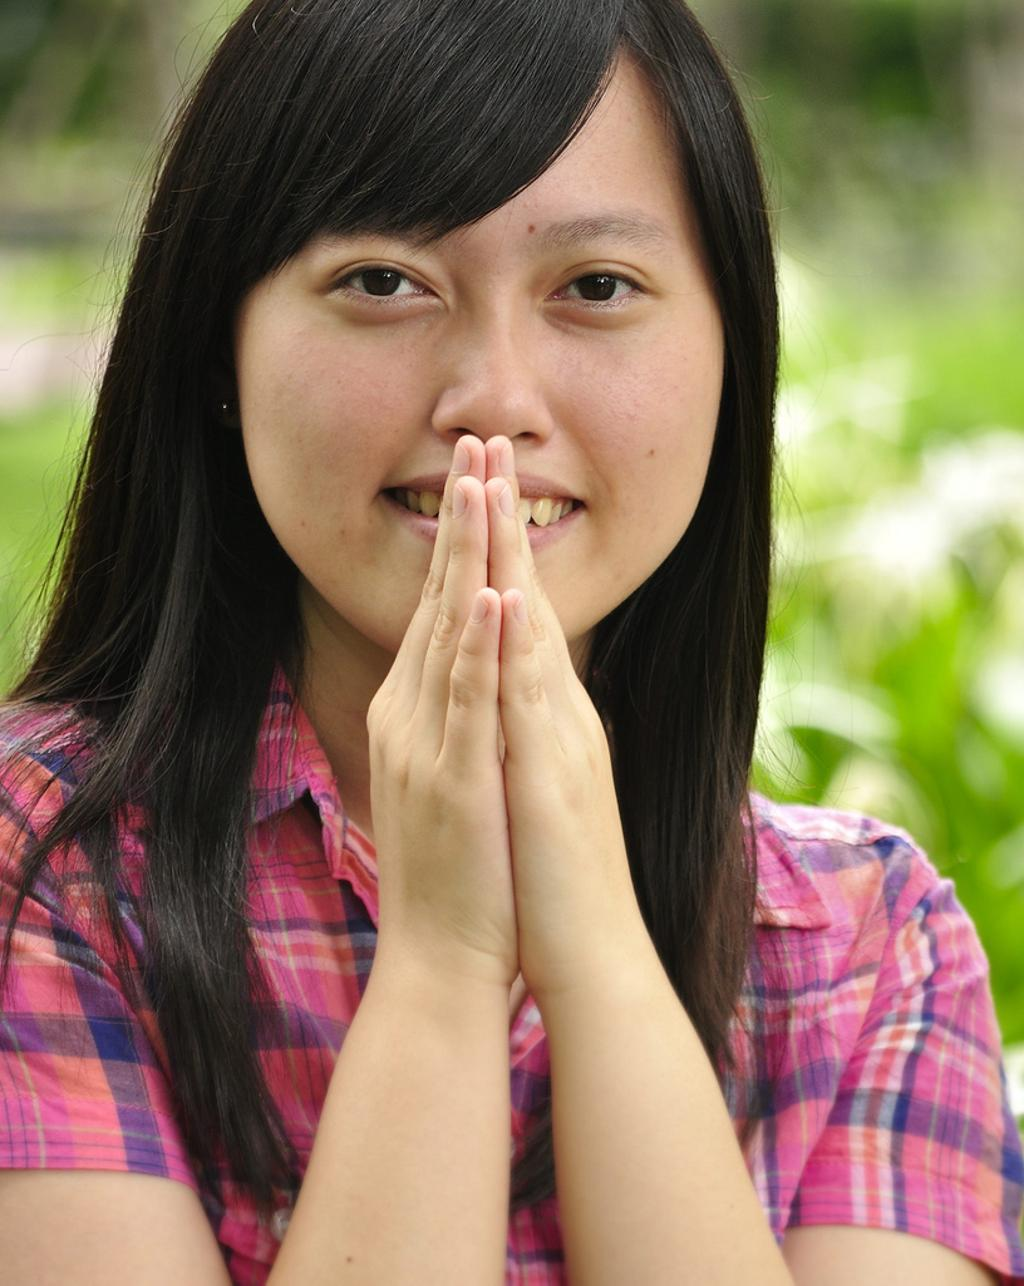face: (233, 25, 725, 673)
